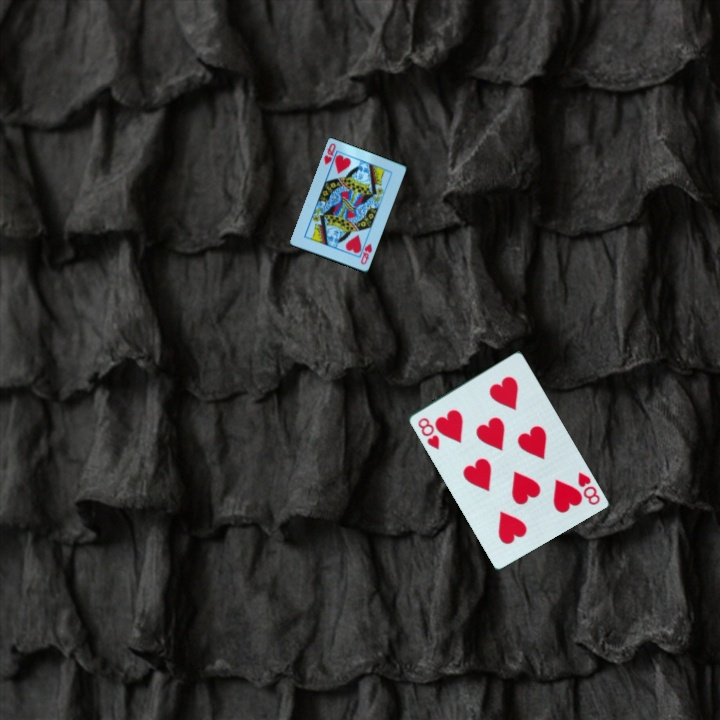8h: (574, 468, 603, 508), (414, 414, 442, 452)
Qh: (320, 140, 339, 168), (357, 240, 375, 268)
